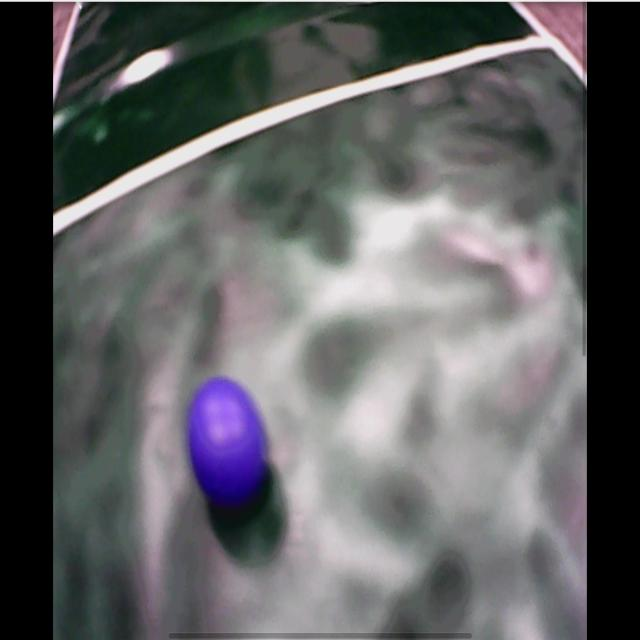ball: (191, 377, 268, 505)
